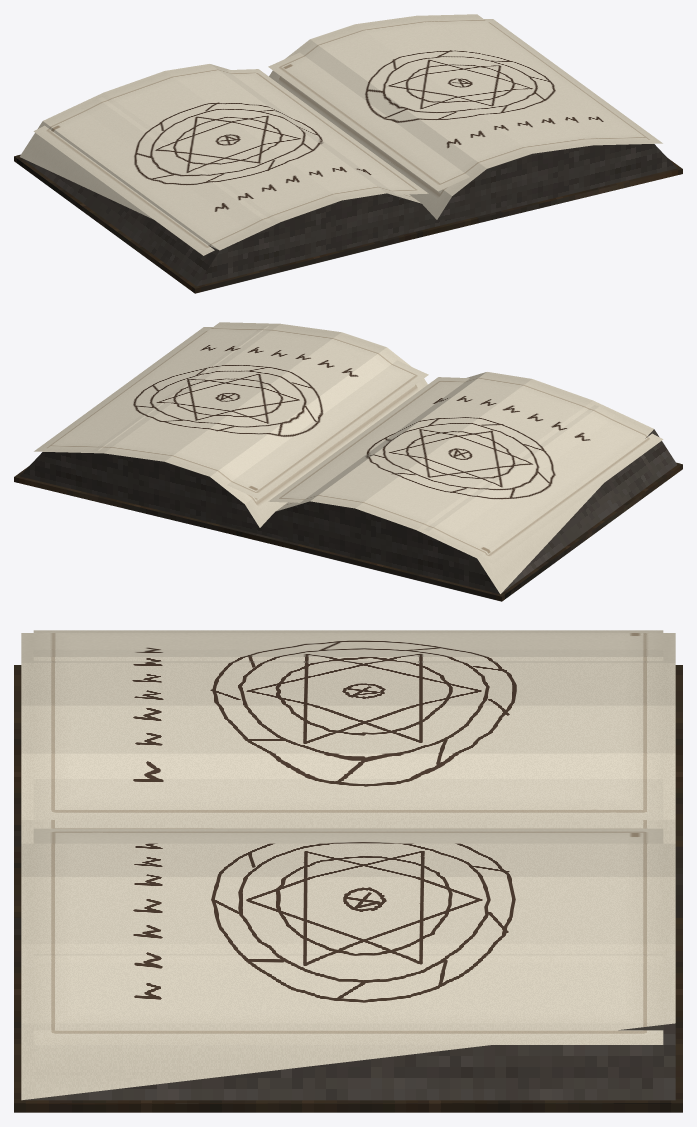
The model's file is blender_ghost_writing_book_3_open_ritual_circles.glb.
The picture shows the model from 3 angles, top to bottom: view 1: azimuth 30°, elevation 25°; view 2: azimuth 150°, elevation 25°; view 3: azimuth 270°, elevation 25°; orthographic projection. The views are drawn at different scales.
Visible parts, largest first — view 1: blender_ghost_writing_book_3_open_ritual_circles; view 2: blender_ghost_writing_book_3_open_ritual_circles; view 3: blender_ghost_writing_book_3_open_ritual_circles.
Boxes of the visible parts, x1=… form: blender_ghost_writing_book_3_open_ritual_circles: x1=14, y1=14, x2=682, y2=293; blender_ghost_writing_book_3_open_ritual_circles: x1=14, y1=322, x2=682, y2=601; blender_ghost_writing_book_3_open_ritual_circles: x1=14, y1=630, x2=682, y2=1112.
Bounding box in the file's own units: 0.42 × 0.0458 × 0.27.
Materials: 2 (2 with a texture image).
